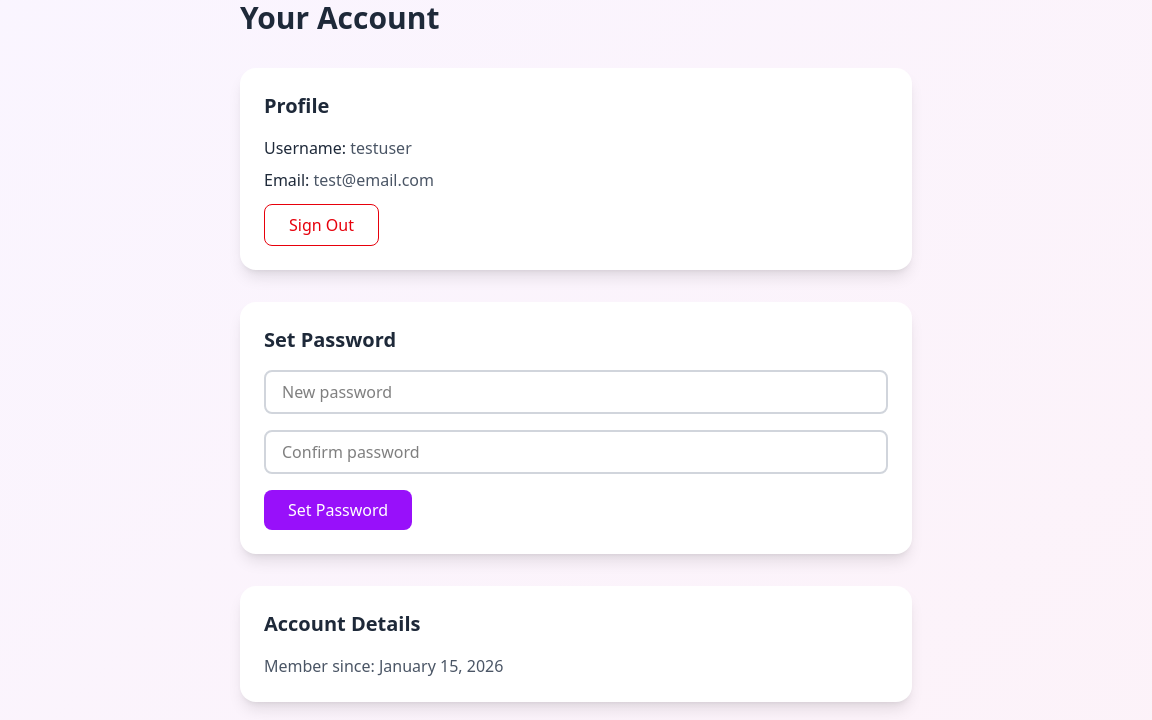
Test: DashboardPage › allows Google users to create a password
The image size is (1152, 720).
Type "NewPassword123!" into the password field with placeholder "New password".
click(576, 392); type("NewPassword123!")  # box 264,370 -> 888,414
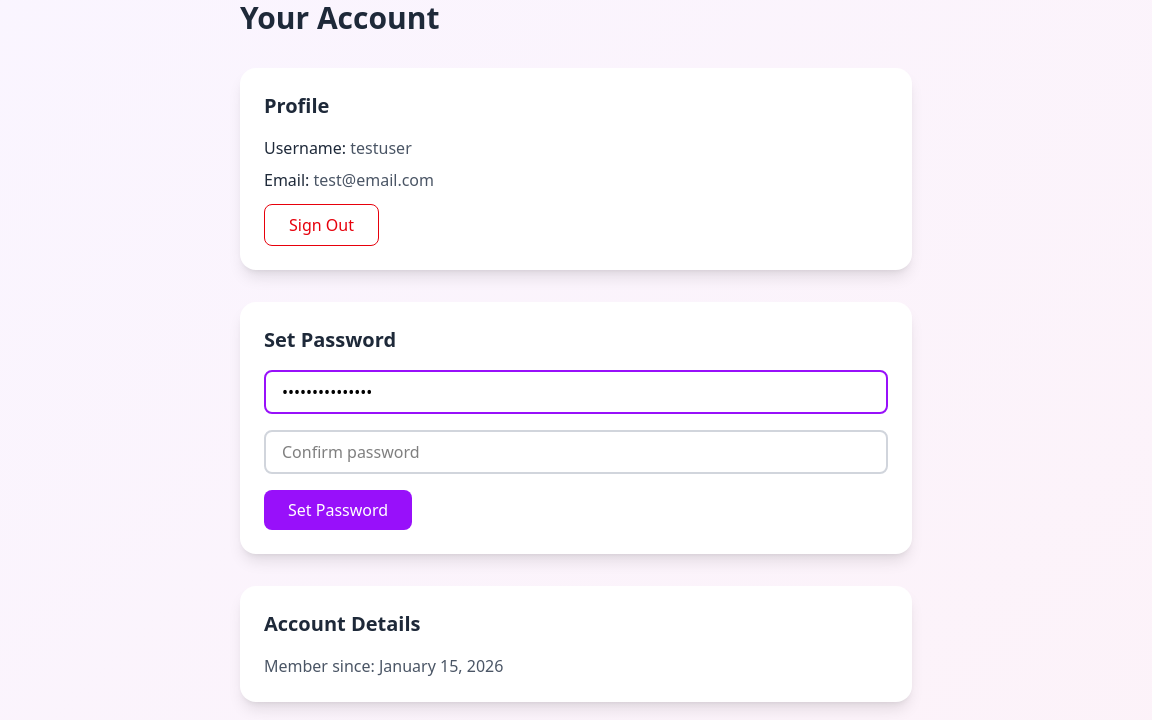
Type "NewPassword123!" into the password field with placeholder "Confirm password".
click(576, 452); type("NewPassword123!")  # box 264,430 -> 888,474
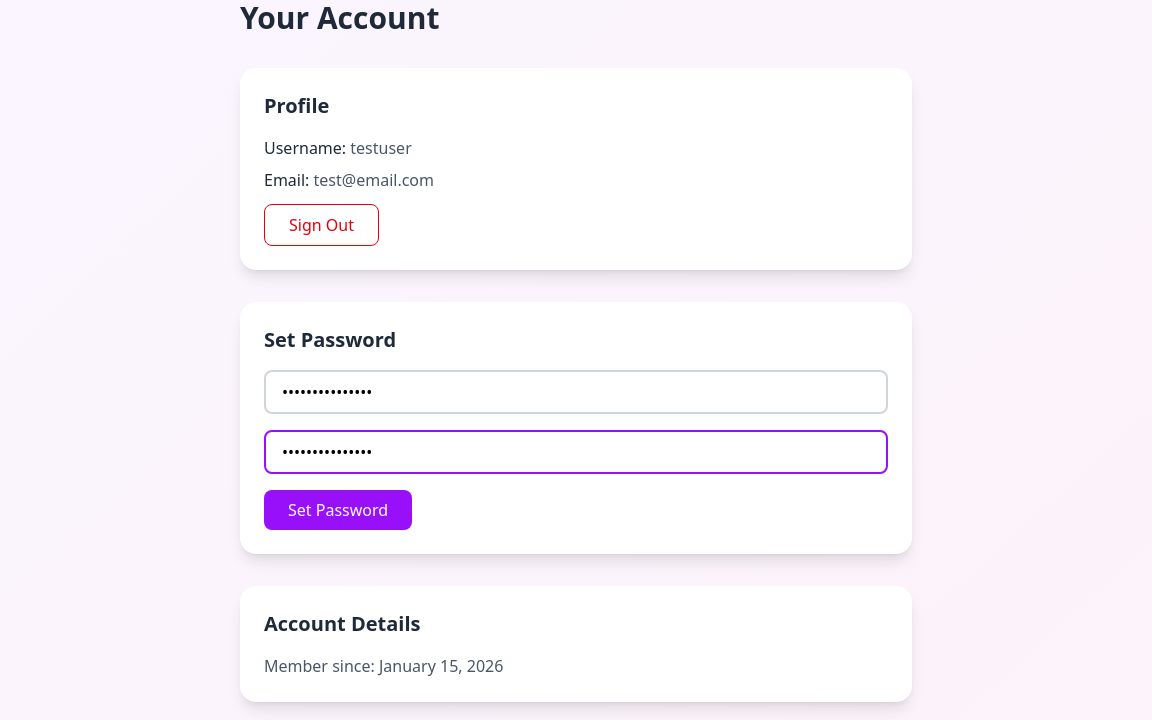
Click the button "Set Password".
click(338, 510)  # box 264,490 -> 412,530
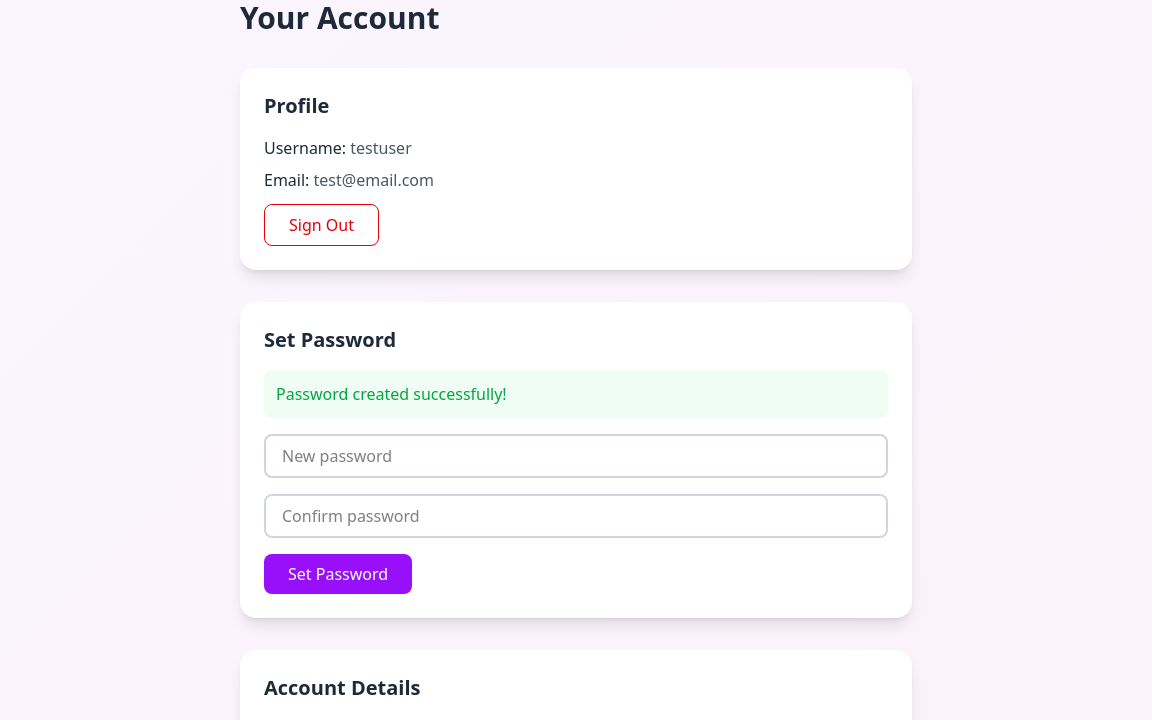
expect the text "Password created successfully!" is shown: met, box 264,370 -> 888,418
